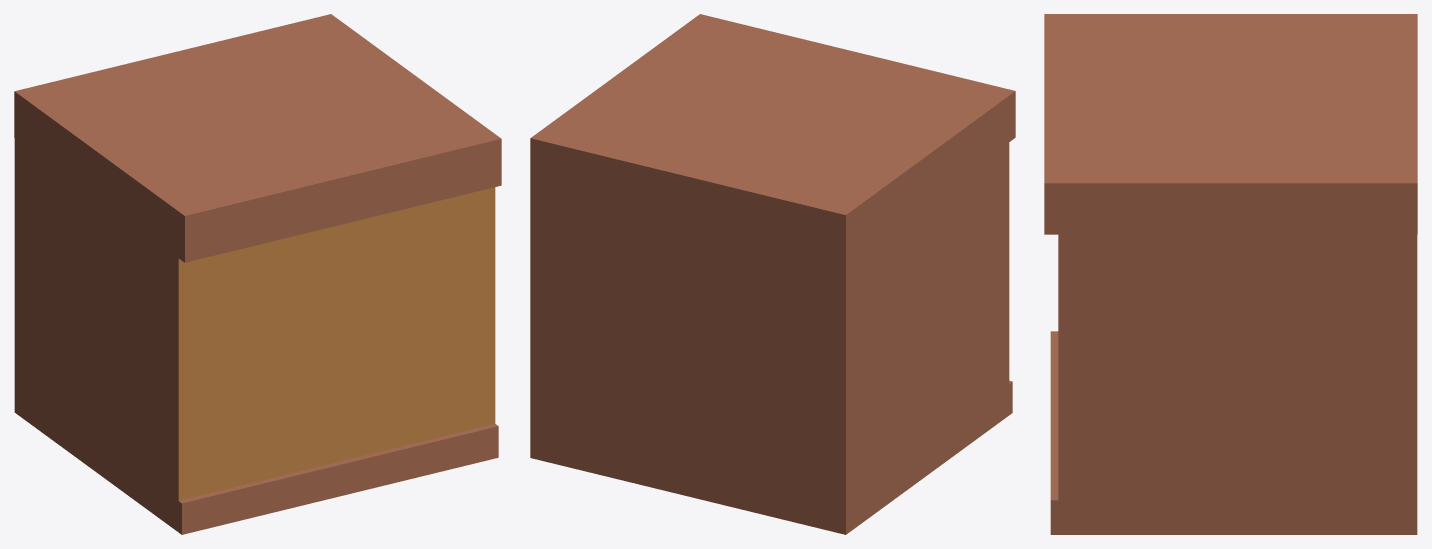
File: BarCounter_1.fbx
3 renders of one model, left to right at view 1: azimuth 30°, elevation 25°; view 2: azimuth 150°, elevation 25°; view 3: azimuth 270°, elevation 25°, orthographic. The views are drawn at different scales.
Visible parts, largest first — view 1: BarCounter_1; view 2: BarCounter_1; view 3: BarCounter_1.
Part boxes in pixels (x1,y1,x2,y2): BarCounter_1: (14, 14, 501, 534); BarCounter_1: (530, 14, 1015, 534); BarCounter_1: (1044, 14, 1417, 534).
Size of the model in its own units: 109 by 105 by 101.
